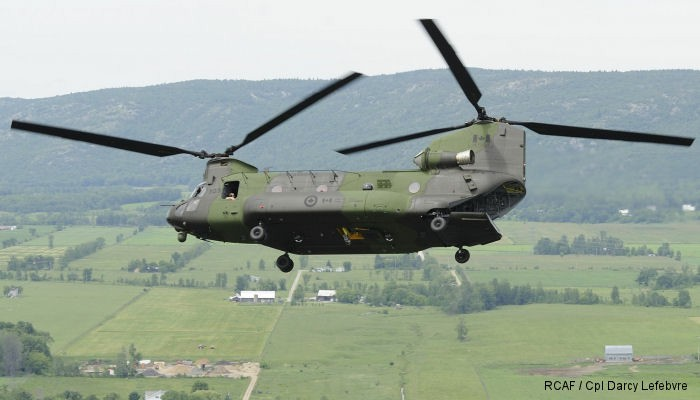chinook: (93, 57, 670, 282)
